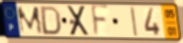4: (143, 7, 162, 37)
D: (40, 5, 62, 37)
F: (90, 4, 110, 39)
I: (129, 6, 139, 38)
M: (15, 6, 45, 36)
X: (66, 5, 91, 37)
